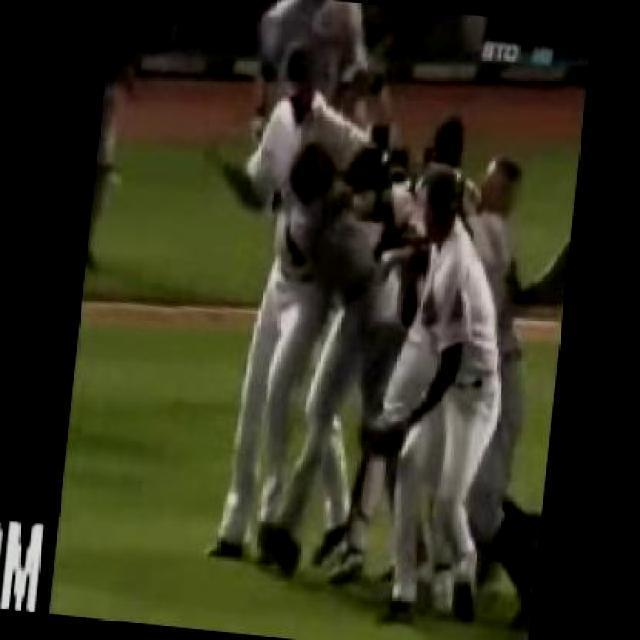fight: (175, 46, 428, 583)
